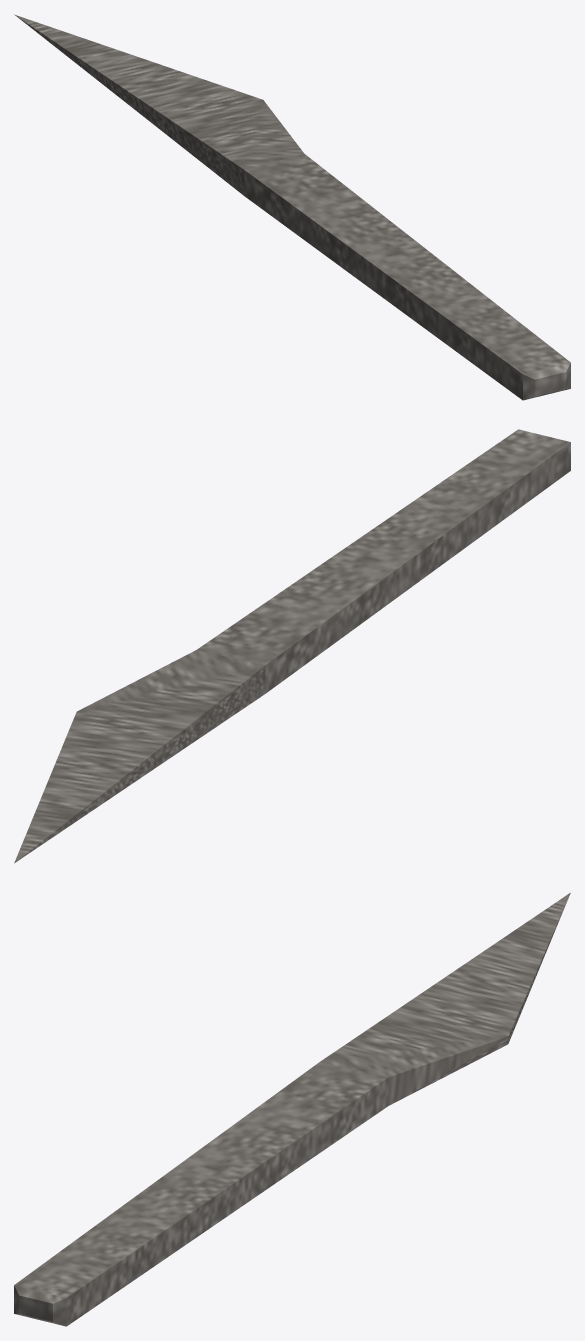
The model's file is Scalpel.glb.
The picture shows the model from 3 angles, top to bottom: view 1: azimuth 30°, elevation 25°; view 2: azimuth 150°, elevation 25°; view 3: azimuth 330°, elevation 25°; orthographic projection. The views are drawn at different scales.
Parts seen in each view (by area): view 1: Cube; view 2: Cube; view 3: Cube.
Part boxes in pixels (left/top/right/bottom): Cube: left=14, top=14, right=570, bottom=400; Cube: left=14, top=429, right=570, bottom=863; Cube: left=14, top=892, right=570, bottom=1326.
Size of the model in its own units: 0.0723 by 0.0188 by 0.6661.
1 material, 1 textured.
